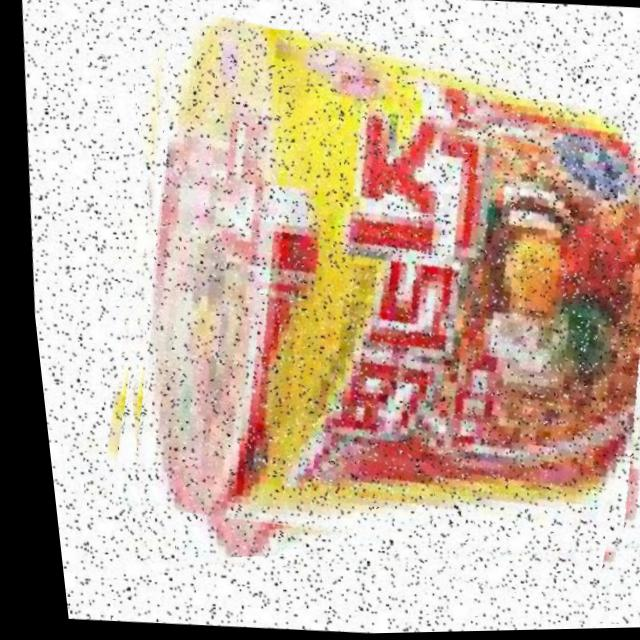Miscellaneous: (61, 11, 640, 607)
